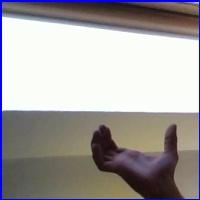space: (82, 118, 190, 193)
